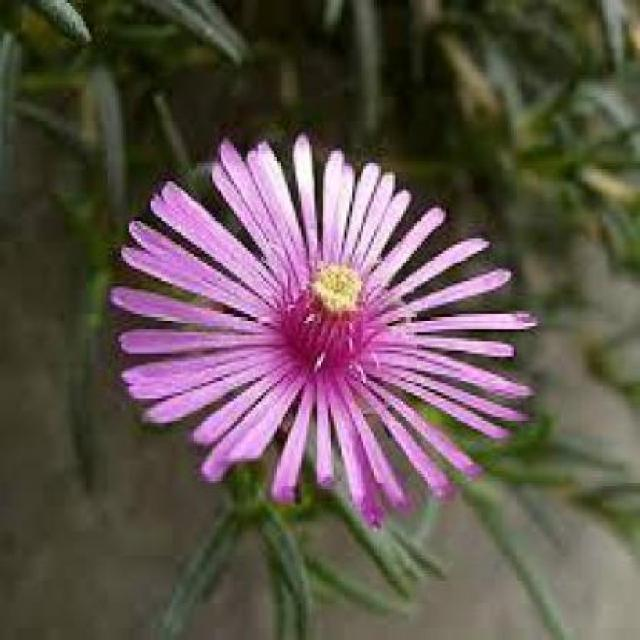flower: (110, 136, 535, 502)
